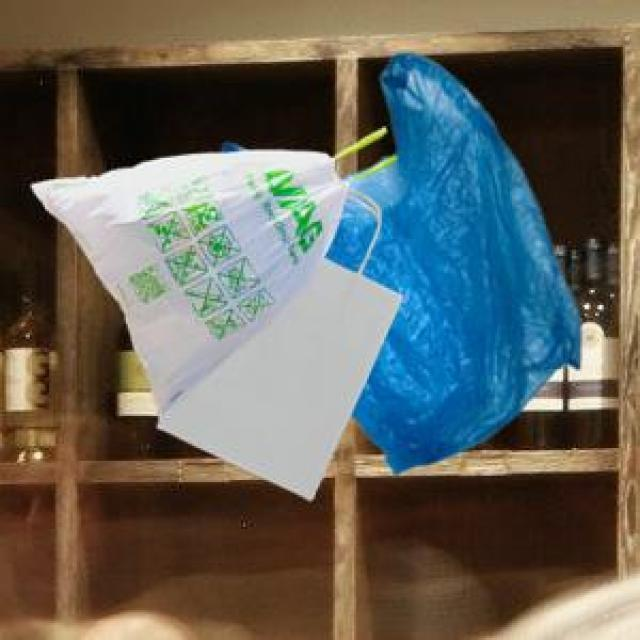paper: (154, 194, 399, 497)
